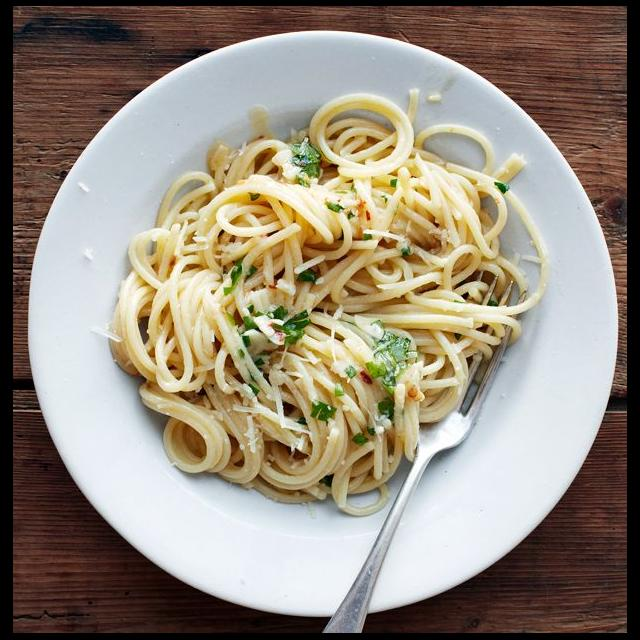noodles: (104, 89, 550, 518)
